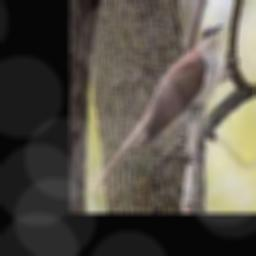Cuckoo: (90, 23, 222, 197)
